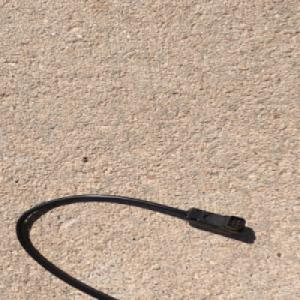Wire: (14, 193, 248, 300)
